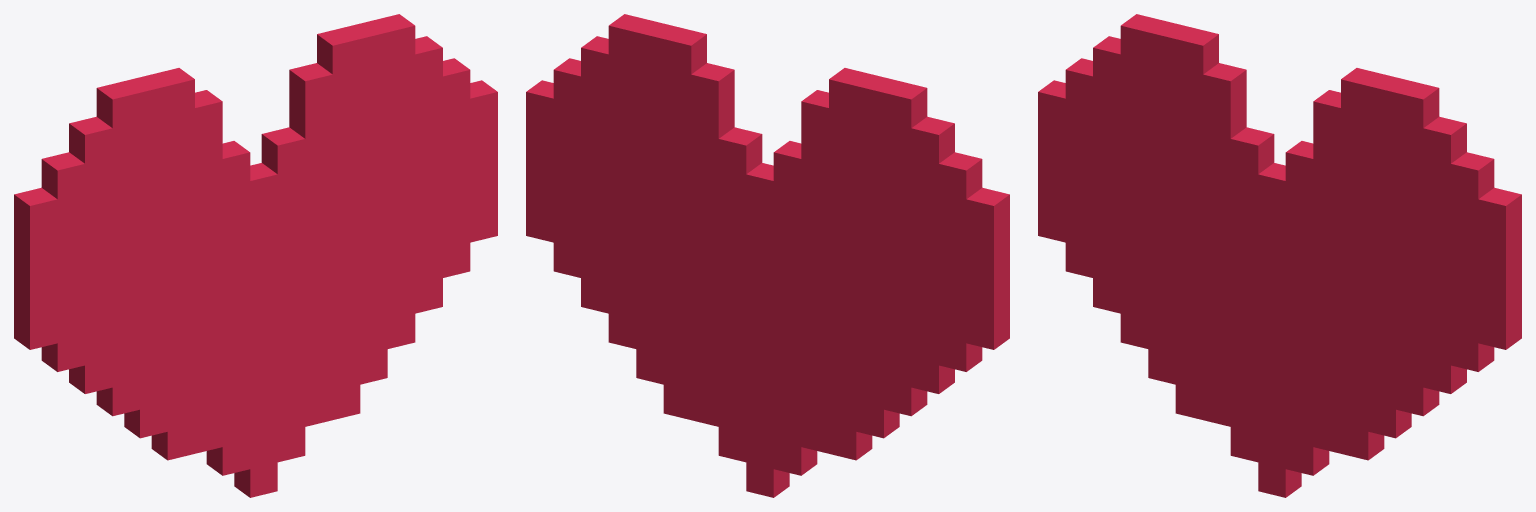
Rendered from heart.fbx.
The picture shows the model from 3 angles, left to right: view 1: azimuth 30°, elevation 25°; view 2: azimuth 150°, elevation 25°; view 3: azimuth 330°, elevation 25°; orthographic projection.
Visible parts, largest first — view 1: generated; view 2: generated; view 3: generated.
Boxes of the visible parts, <box> form: generated: <box>14,14,497,497</box>; generated: <box>526,14,1009,497</box>; generated: <box>1038,14,1521,497</box>.
Size of the model in its own units: 170 by 150 by 10.
